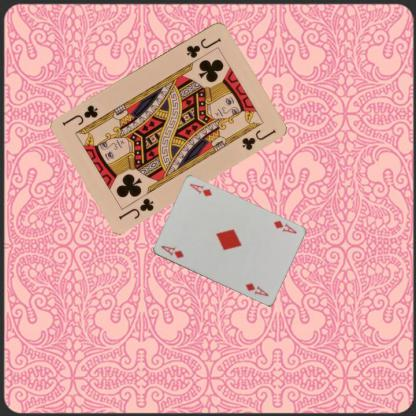Ad: (158, 244, 185, 260), (271, 218, 298, 234)
Jc: (116, 195, 156, 221), (184, 34, 222, 60)
